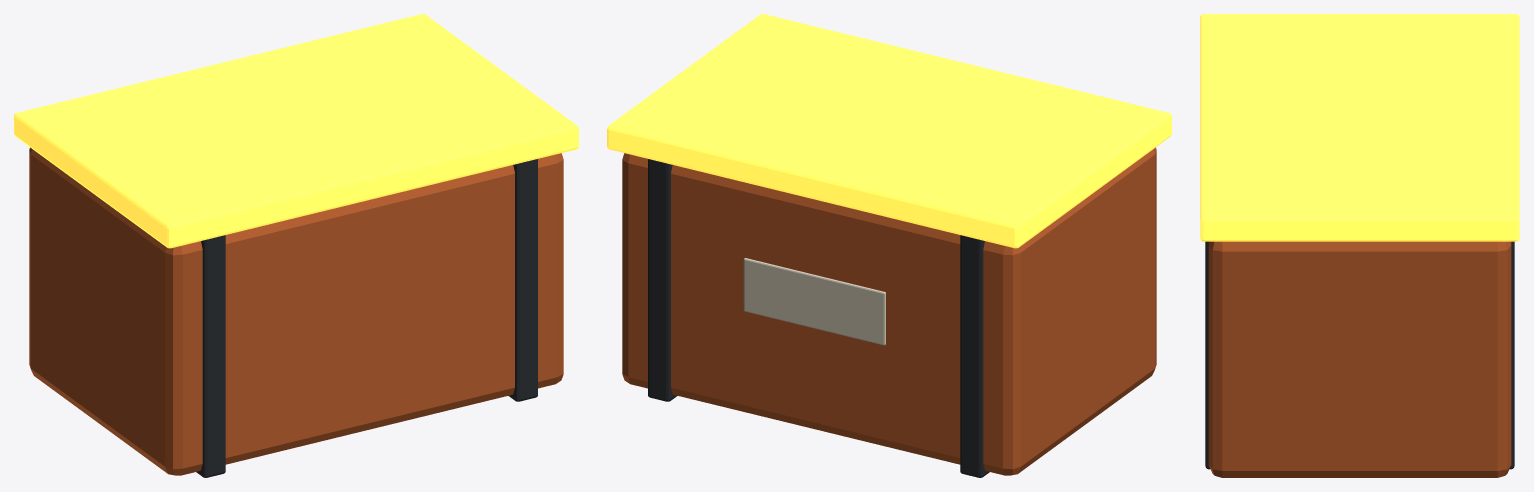
The model's file is crate.glb.
The picture shows the model from 3 angles, left to right: view 1: azimuth 30°, elevation 25°; view 2: azimuth 150°, elevation 25°; view 3: azimuth 270°, elevation 25°; orthographic projection. The views are drawn at different scales.
Parts seen in each view (by area): view 1: body, lid, rib-5, rib5; view 2: body, lid, stencil, rib-5, rib5; view 3: lid, body, rib5.
Part boxes in pixels (x1,y1,x2,y2): body: (29,147,563,475); lid: (14,14,578,248); rib-5: (196,235,225,477); rib5: (508,159,537,401); body: (622,147,1156,475); lid: (607,14,1171,248); stencil: (743,258,885,345); rib-5: (960,235,989,477); rib5: (648,159,677,401); lid: (1200,14,1519,241); body: (1208,241,1511,477); rib5: (1205,241,1514,469).
Size of the model in its own units: 1.45 by 0.89 by 0.95.
